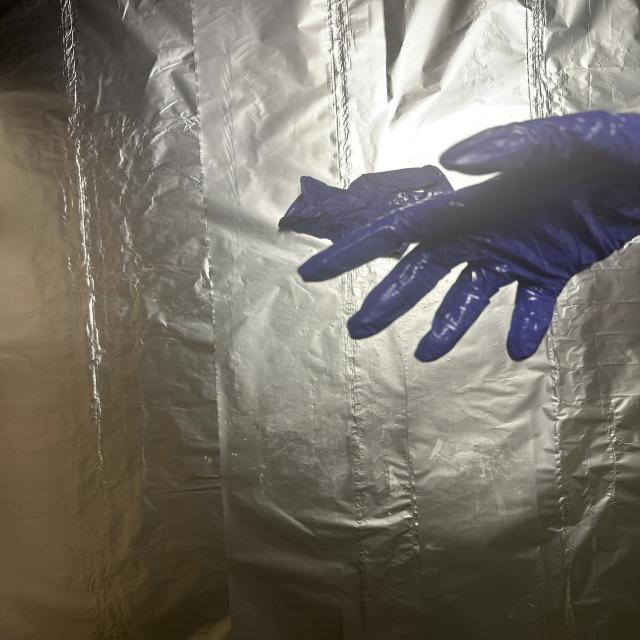gloves_contaminated: (298, 111, 640, 362)
